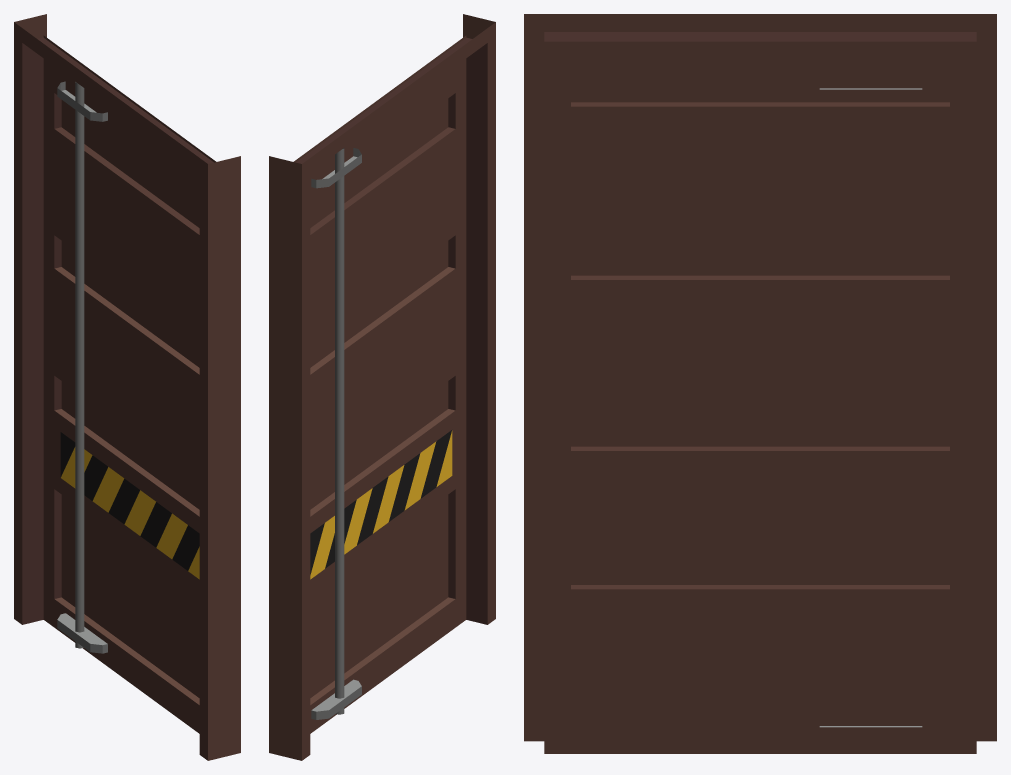
The model's file is M_woshimen04.FBX.
The picture shows the model from 3 angles, left to right: view 1: azimuth 30°, elevation 25°; view 2: azimuth 150°, elevation 25°; view 3: azimuth 270°, elevation 25°; orthographic projection. The views are drawn at different scales.
Parts seen in each view (by area): view 1: M_woshimen04_01, M_woshimen04_02, M_woshimen04_03; view 2: M_woshimen04_01, M_woshimen04_02, M_woshimen04_03; view 3: M_woshimen04_01.
Boxes of the visible parts, bbox=[...] form: M_woshimen04_01: bbox=[14, 14, 240, 760]; M_woshimen04_02: bbox=[57, 81, 107, 653]; M_woshimen04_03: bbox=[60, 432, 199, 579]; M_woshimen04_01: bbox=[269, 14, 495, 760]; M_woshimen04_02: bbox=[311, 148, 361, 719]; M_woshimen04_03: bbox=[310, 430, 452, 579]; M_woshimen04_01: bbox=[524, 14, 996, 753].
Bounding box in the file's own units: 0.1641 × 2.85 × 1.68.
